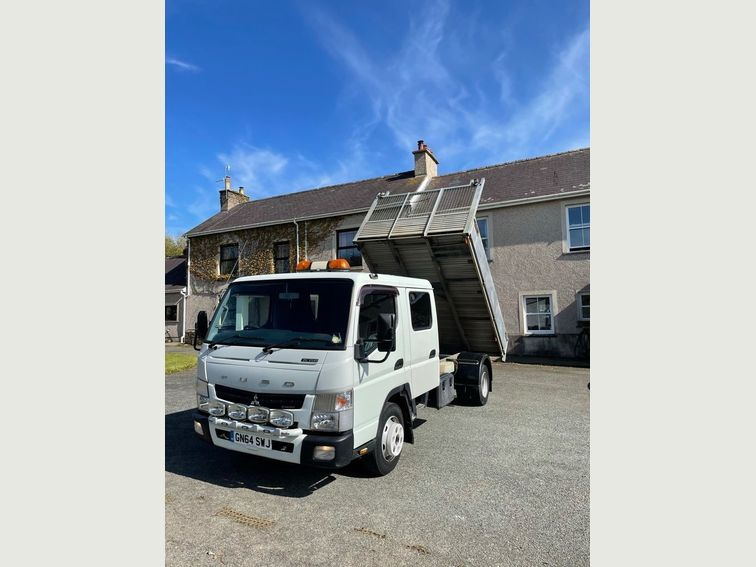Semi: (192, 177, 508, 478)
